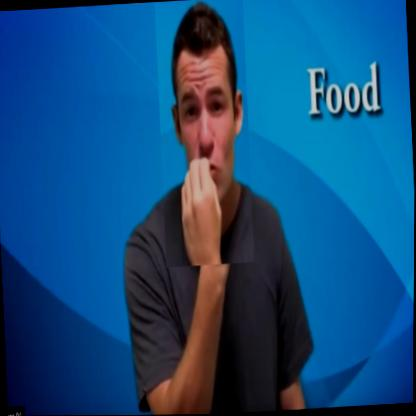Food: (153, 0, 256, 267)
